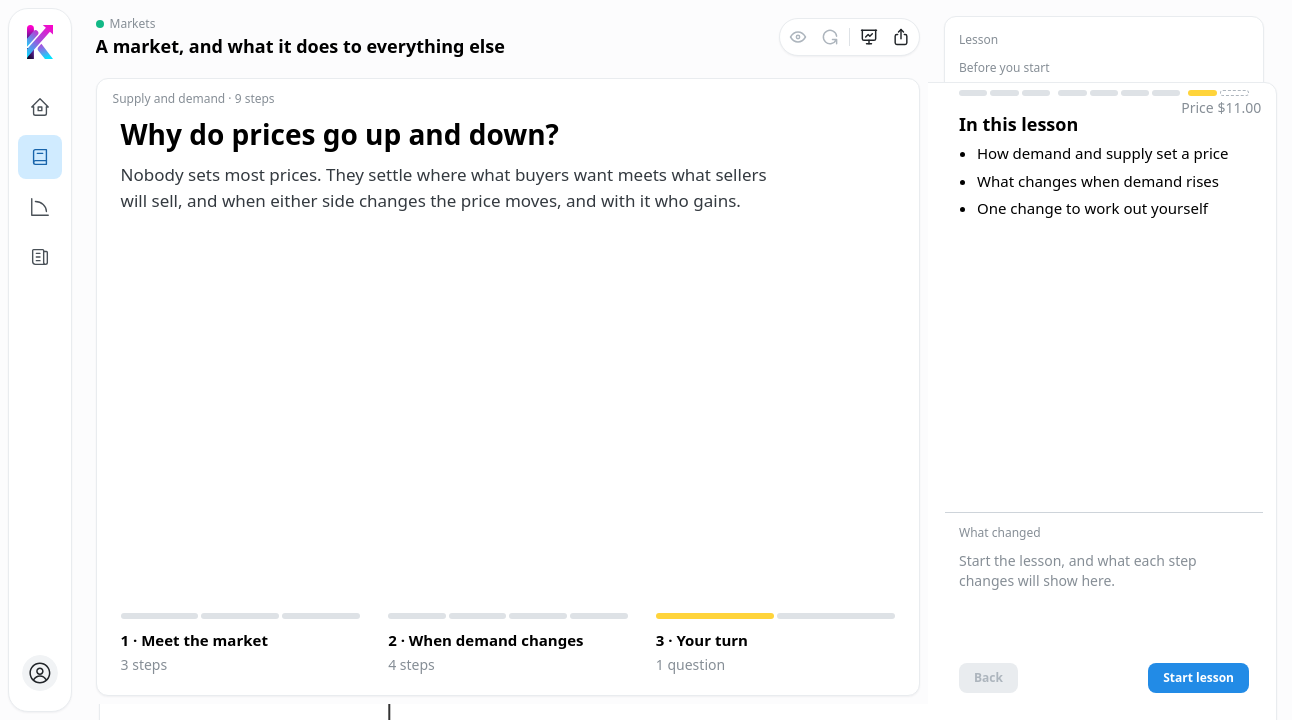
Share › offers the picture and the page only where the diagram is on screen
Click the button named "Share": click(902, 37) top-left (886, 22), bottom-right (916, 52)
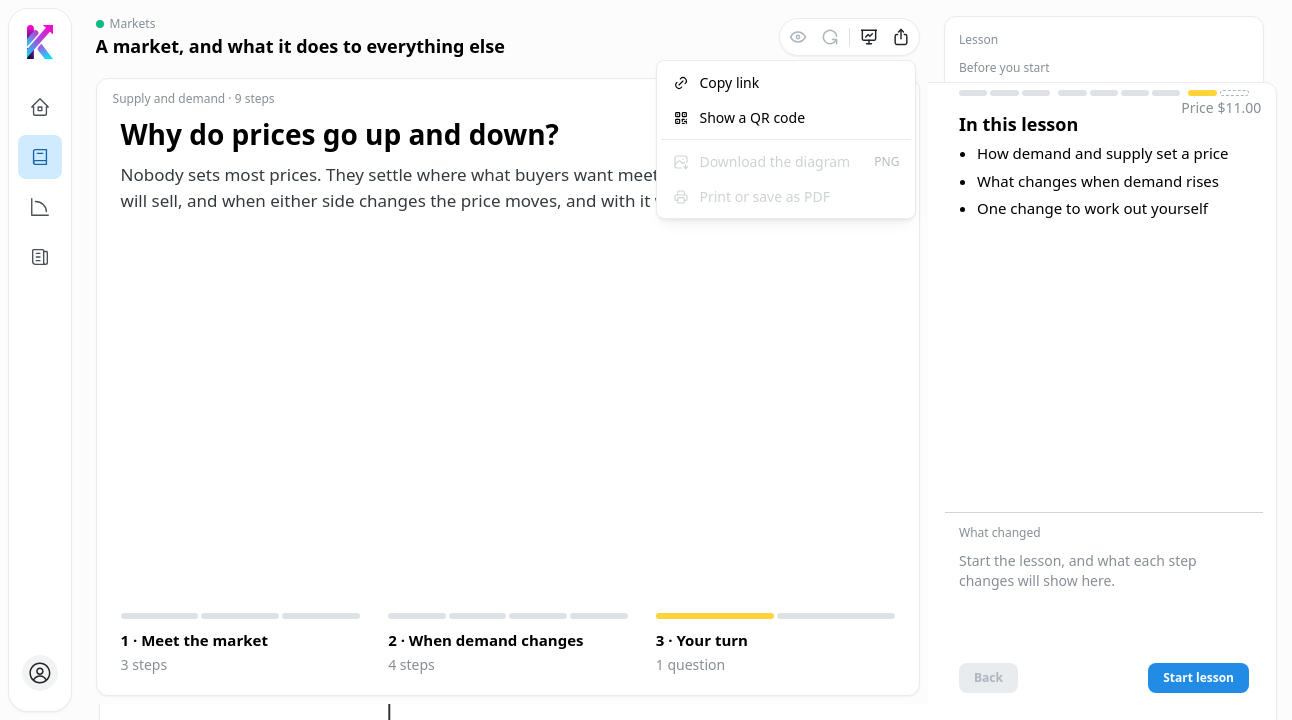
Expected: the menu item "Download the diagram PNG" is disabled, top-left (662, 144), bottom-right (912, 179)
Expected: the menu item "Print or save as PDF" is disabled, top-left (662, 179), bottom-right (912, 214)
Press Escape
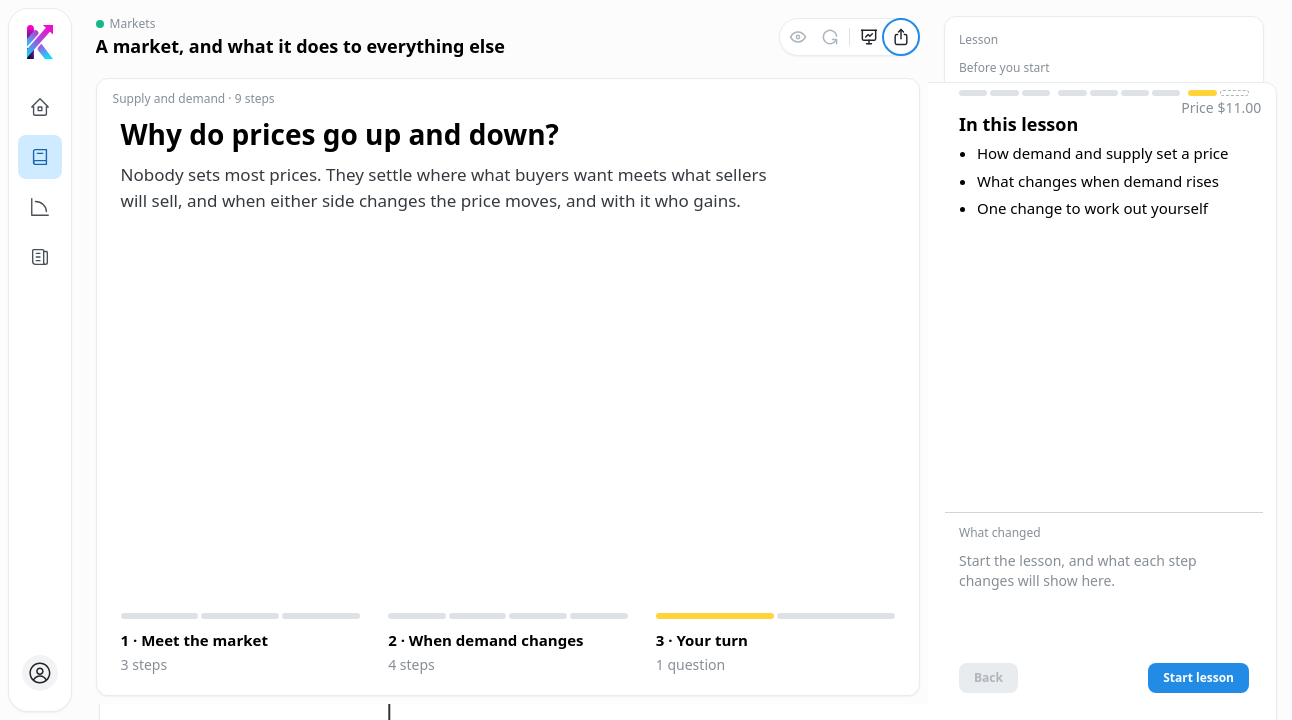
Click the button "Start lesson": click(1199, 678) top-left (1148, 663), bottom-right (1249, 693)
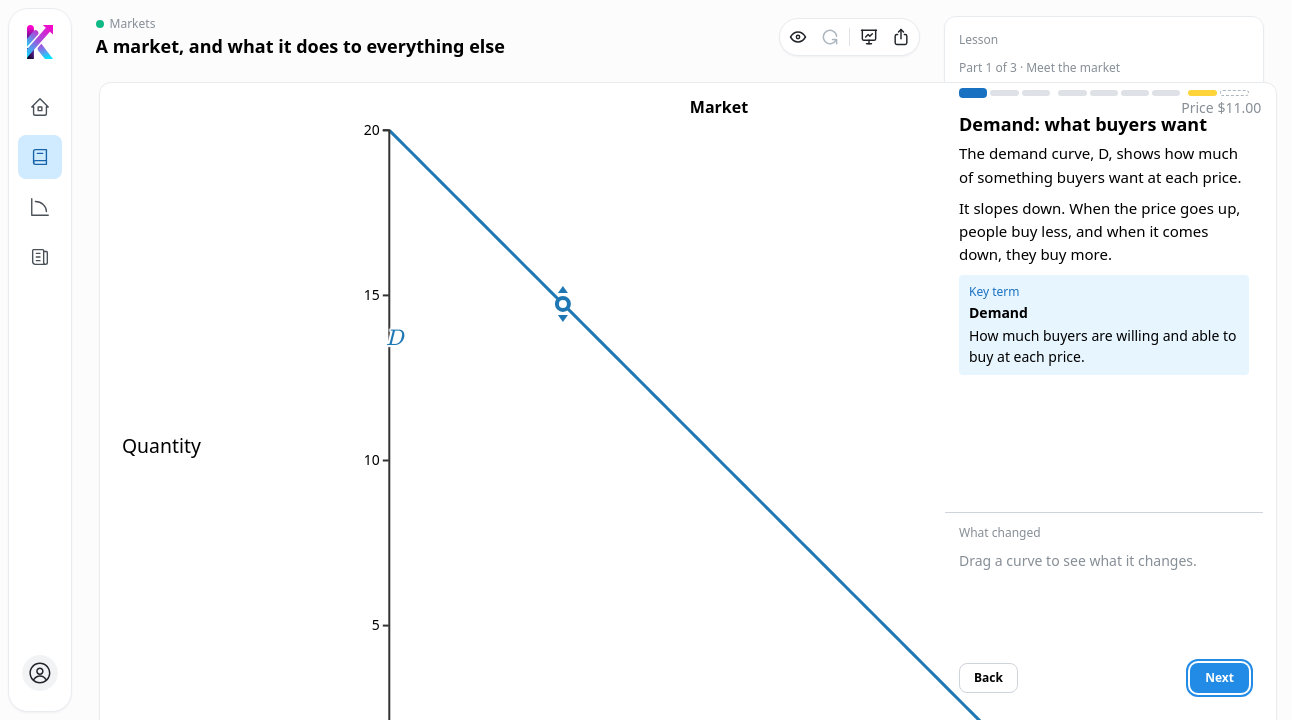
Click the button named "Share": click(902, 37) top-left (886, 22), bottom-right (916, 52)
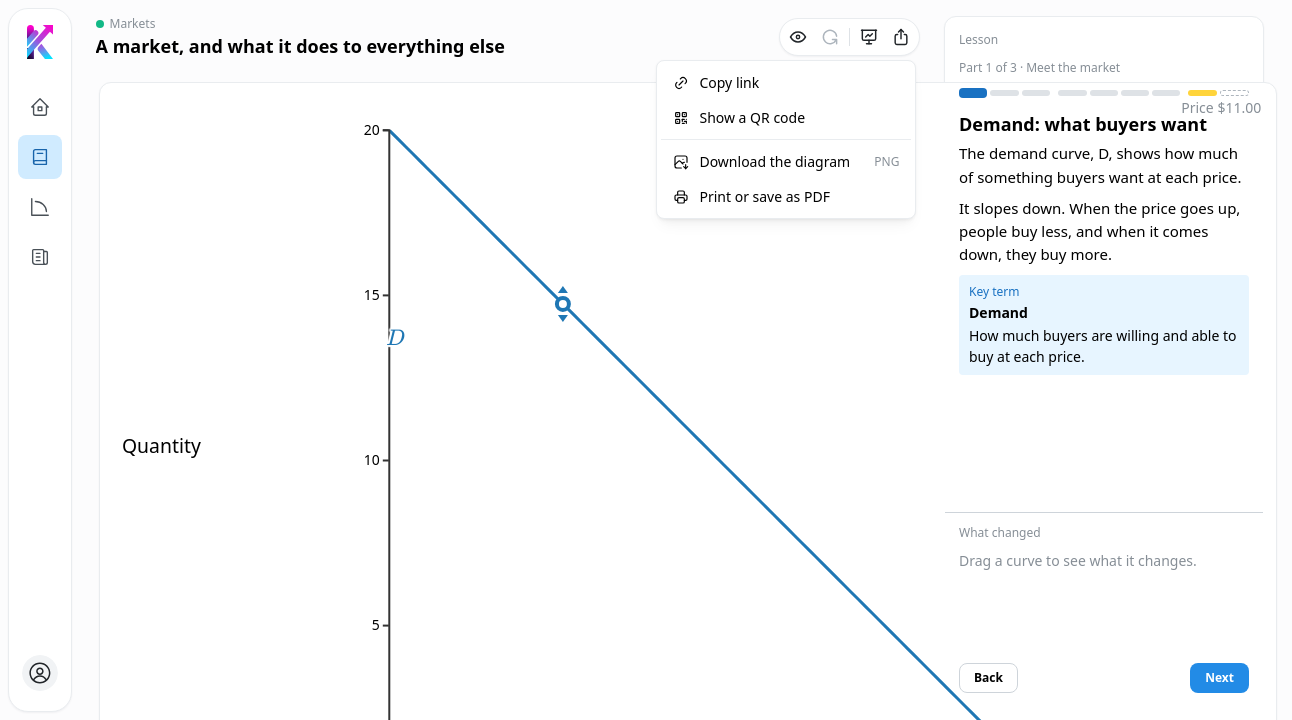
Expected: the menu item "Download the diagram PNG" is enabled, top-left (662, 144), bottom-right (912, 179)
Expected: the menu item "Print or save as PDF" is enabled, top-left (662, 179), bottom-right (912, 214)
